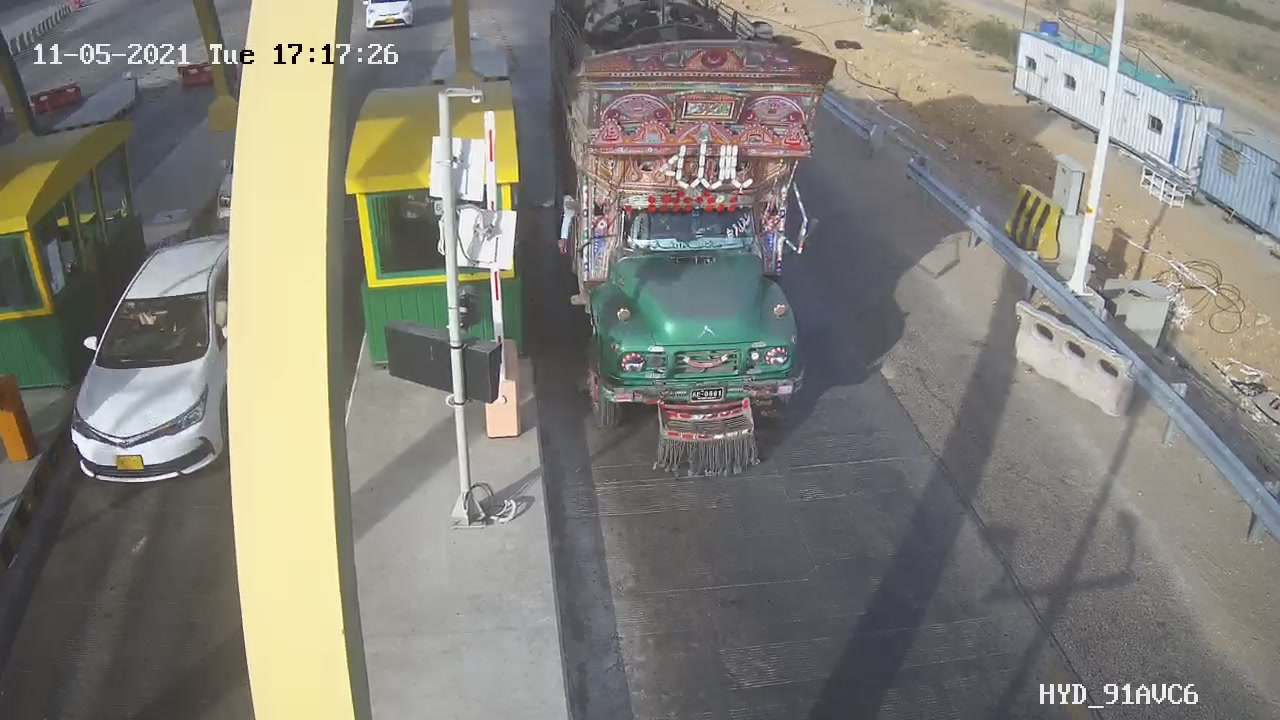F5: (527, 1, 850, 491)
